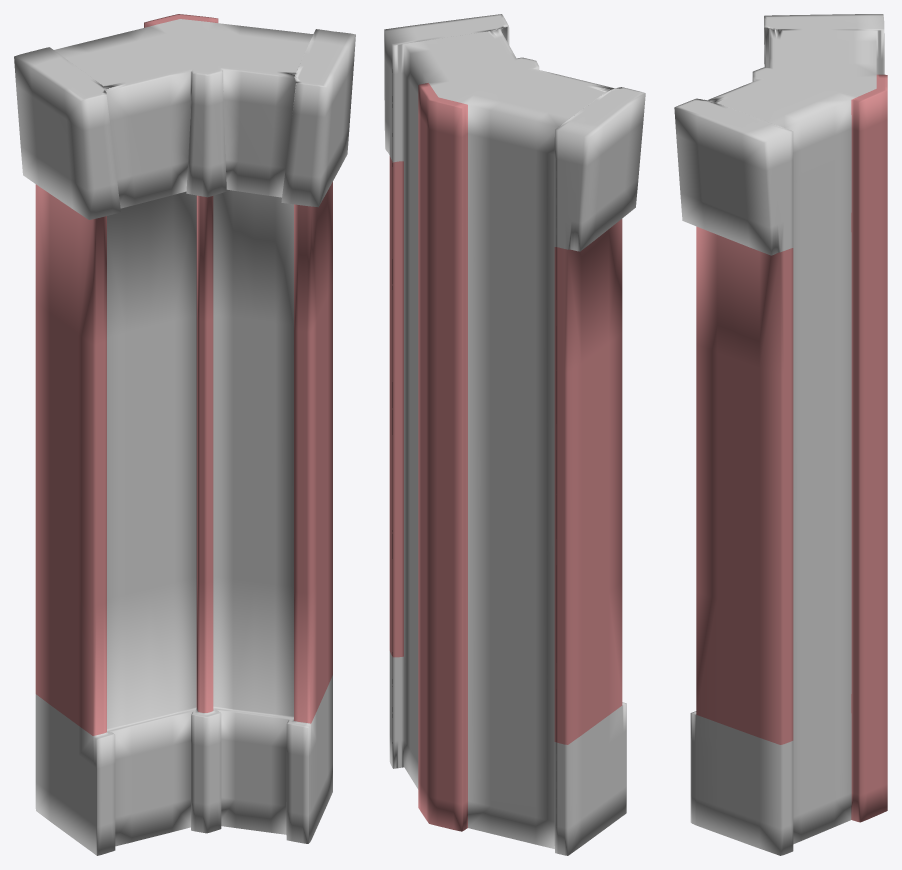
Rendered from CornerWall.fbx.
3 renders of one model, left to right at view 1: azimuth 30°, elevation 25°; view 2: azimuth 150°, elevation 25°; view 3: azimuth 270°, elevation 25°, orthographic. The views are drawn at different scales.
Parts seen in each view (by area): view 1: CornerWall; view 2: CornerWall; view 3: CornerWall.
Boxes of the visible parts, bbox=[...] form: CornerWall: bbox=[14, 14, 355, 855]; CornerWall: bbox=[384, 14, 645, 855]; CornerWall: bbox=[674, 14, 887, 855].
Bounding box in the file's own units: 5.2 × 13.56 × 3.64.
